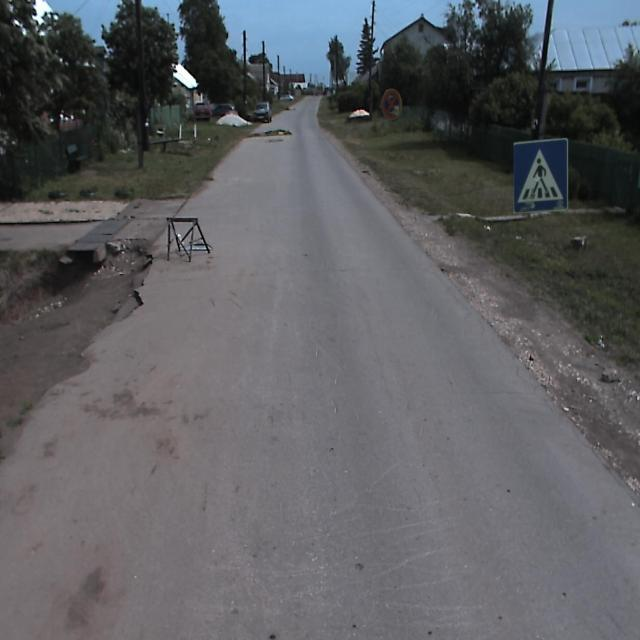road: (0, 96, 639, 639)
